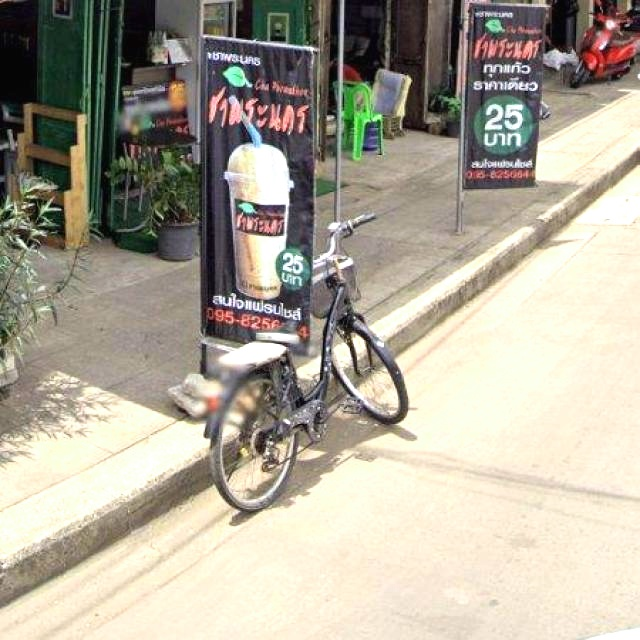bicycle: (180, 204, 428, 520)
